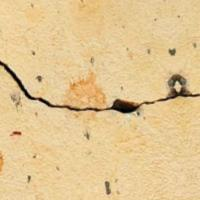crack: (0, 45, 199, 123)
